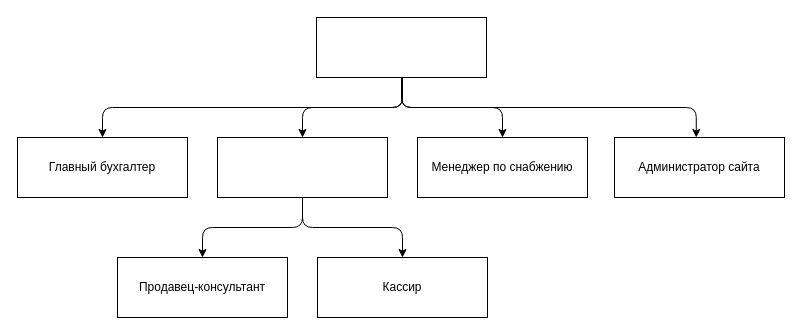
Some shapes in this 802 by 335 pixel diagram are drawn without their labels. The box of each missing label's shape, as (x1, y1, x2, y2) in pixels:
Дирекция: (316, 16, 486, 78)
Менеджер по продажам: (216, 136, 388, 198)
